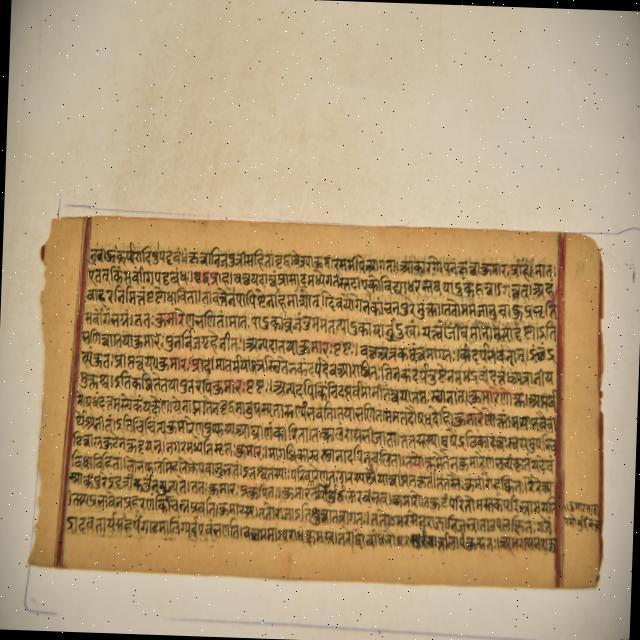text_paragraph: (32, 213, 600, 588)
